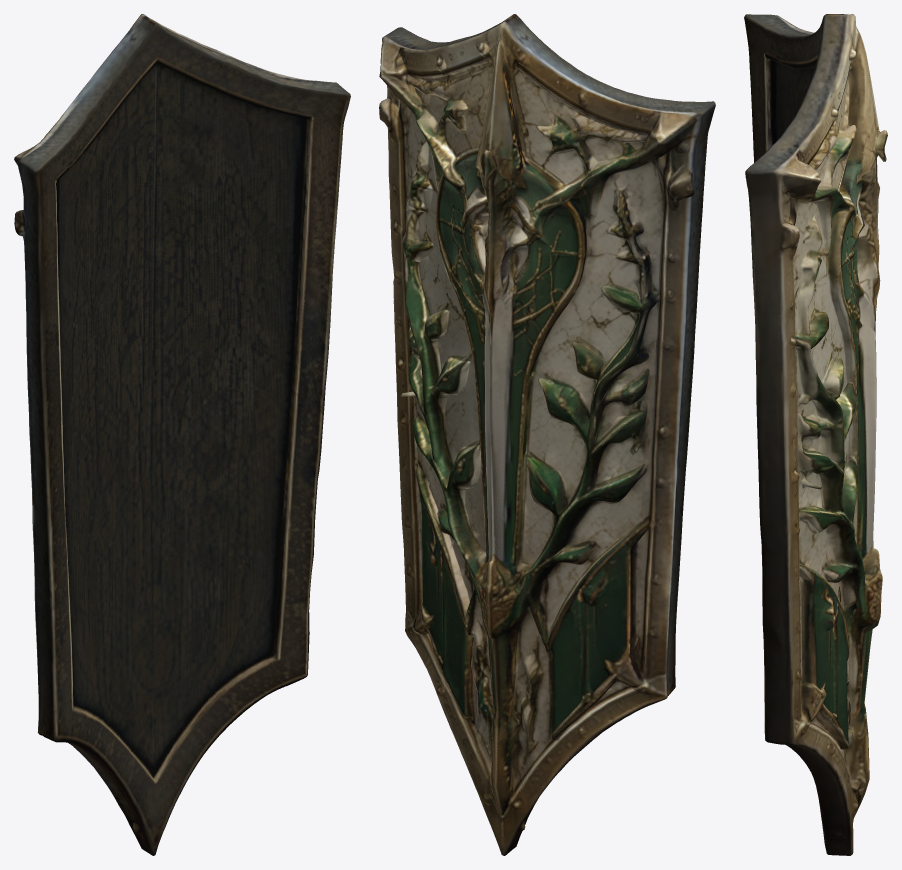
Rendered from tower_ivy.glb.
The picture shows the model from 3 angles, left to right: view 1: azimuth 30°, elevation 25°; view 2: azimuth 150°, elevation 25°; view 3: azimuth 270°, elevation 25°; orthographic projection.
Parts seen in each view (by area): view 1: tower_ivy; view 2: tower_ivy; view 3: tower_ivy.
Part boxes in pixels (left/top/right/bottom): tower_ivy: left=14, top=14, right=350, bottom=855; tower_ivy: left=379, top=14, right=715, bottom=855; tower_ivy: left=744, top=14, right=887, bottom=855.
Size of the model in its own units: 0.4484 by 1.12 by 0.1728.
Materials: 1 (1 with a texture image).
